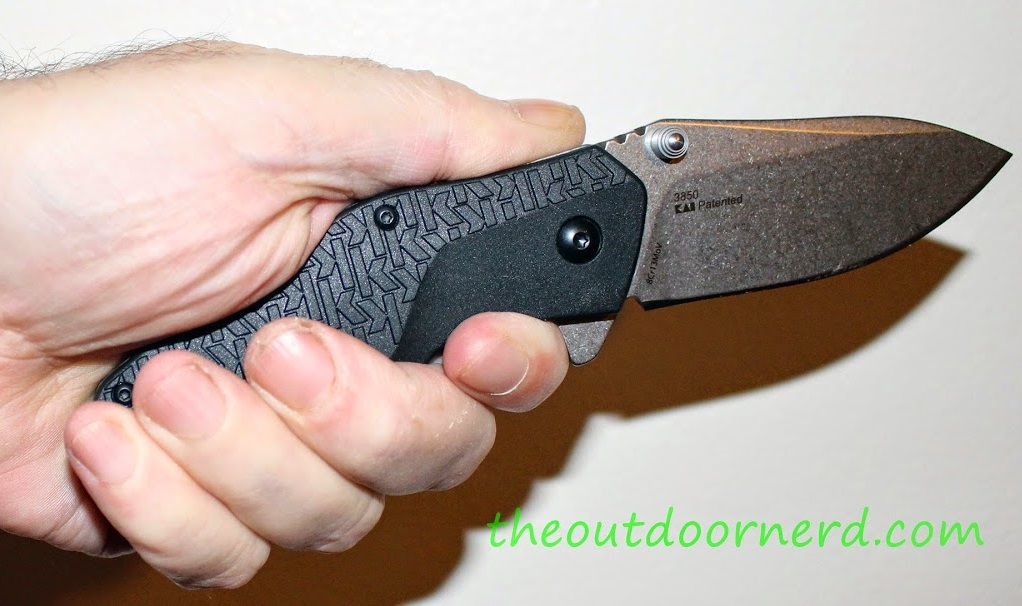knife: (194, 74, 1022, 494)
